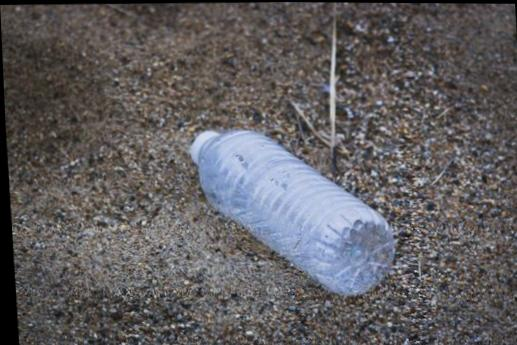plastic: (191, 130, 393, 293)
